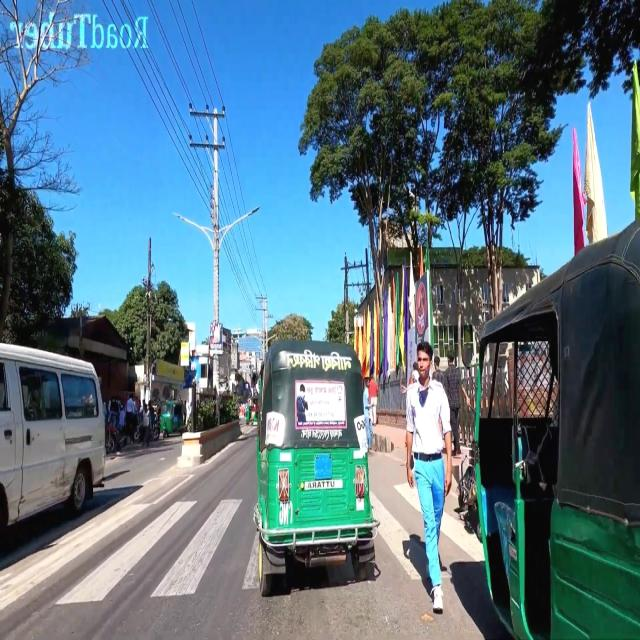white: (0, 344, 107, 534)
